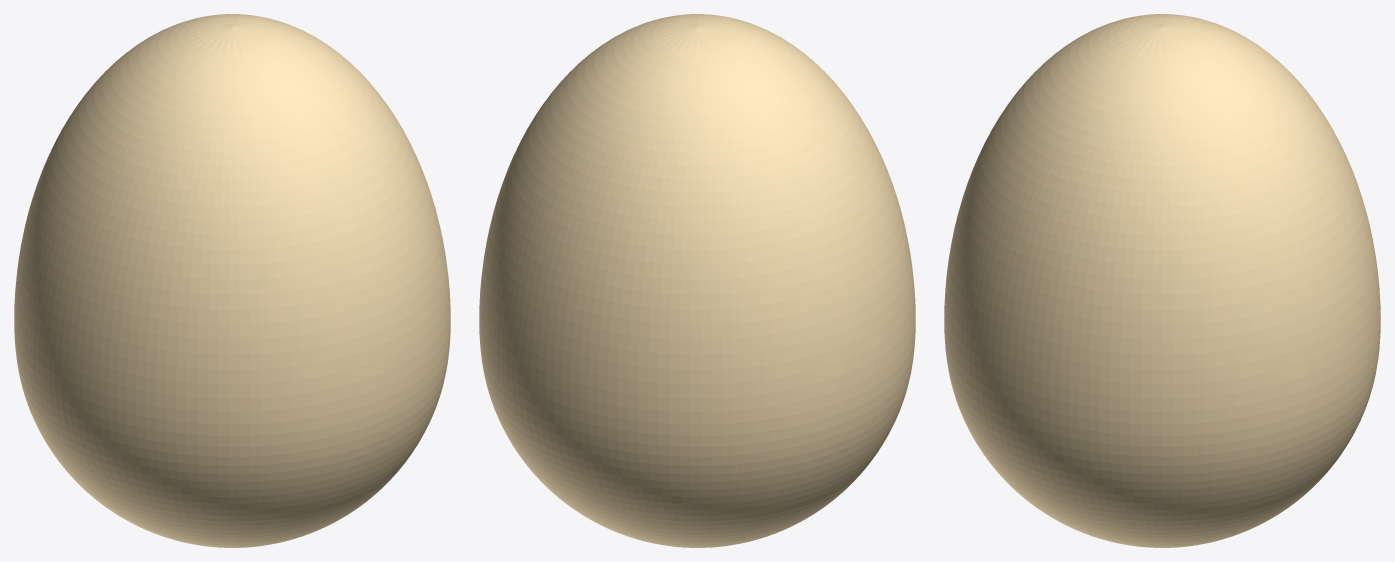
File: base_egg.glb
3 views of the same model, side by side, from view 1: azimuth 30°, elevation 25°; view 2: azimuth 150°, elevation 25°; view 3: azimuth 270°, elevation 25° (orthographic).
Visible parts, largest first — view 1: Sphere; view 2: Sphere; view 3: Sphere.
Part boxes in pixels (bbox=[...]): Sphere: bbox=[14, 14, 450, 547]; Sphere: bbox=[479, 14, 915, 547]; Sphere: bbox=[944, 14, 1380, 547].
Bounding box in the file's own units: 0.9872 × 1.25 × 0.9872.
